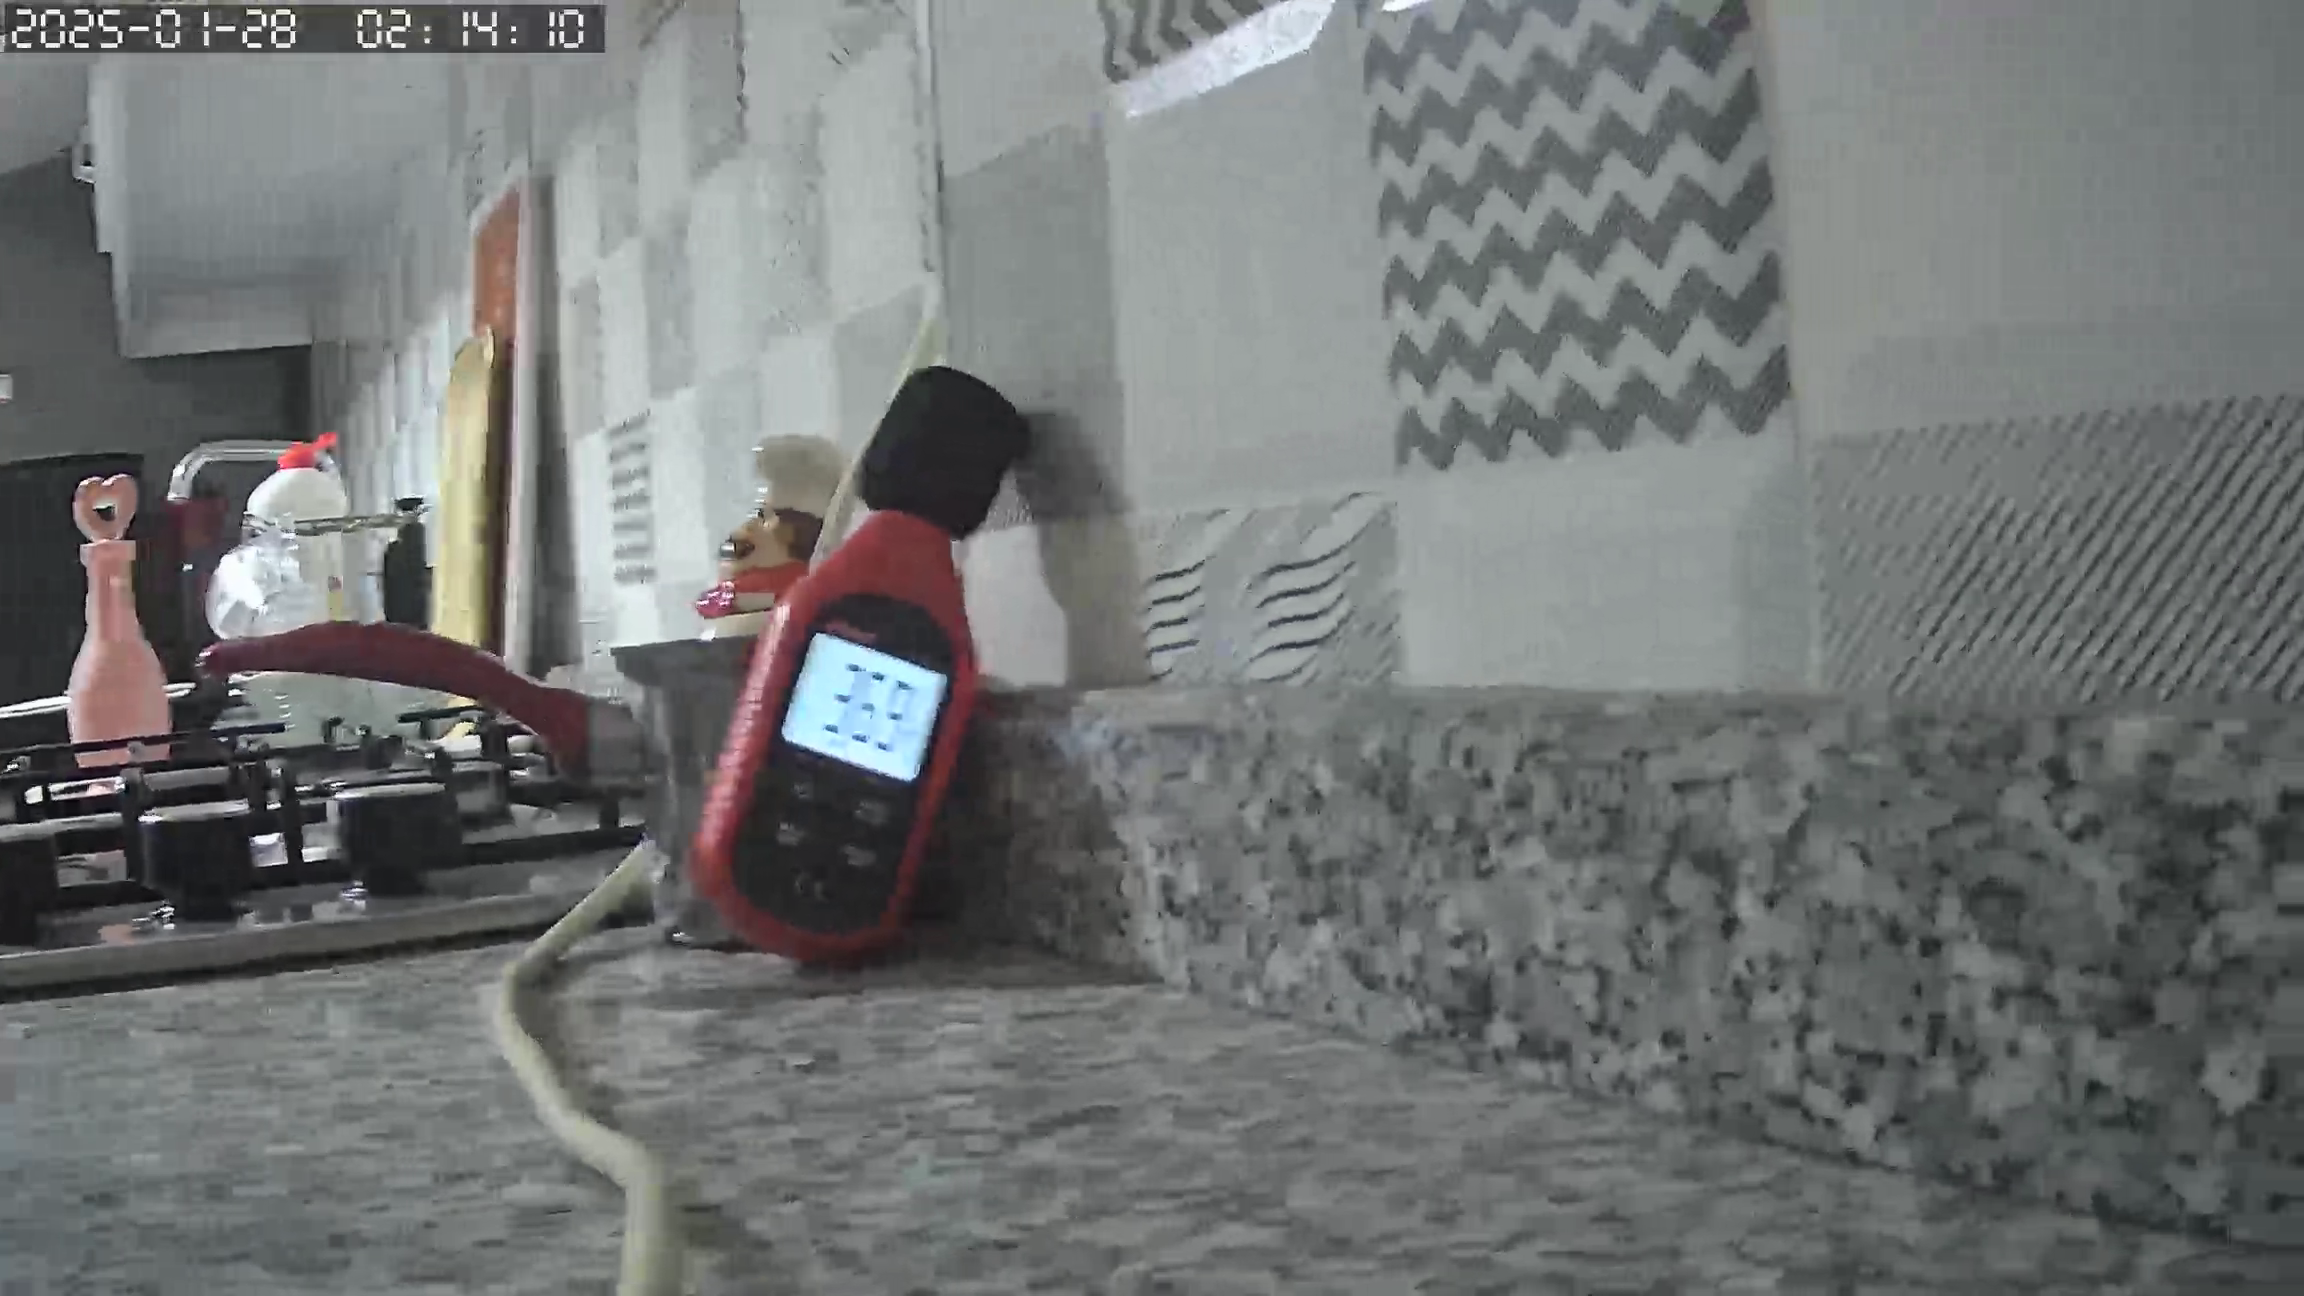screen: (782, 635, 948, 785)
